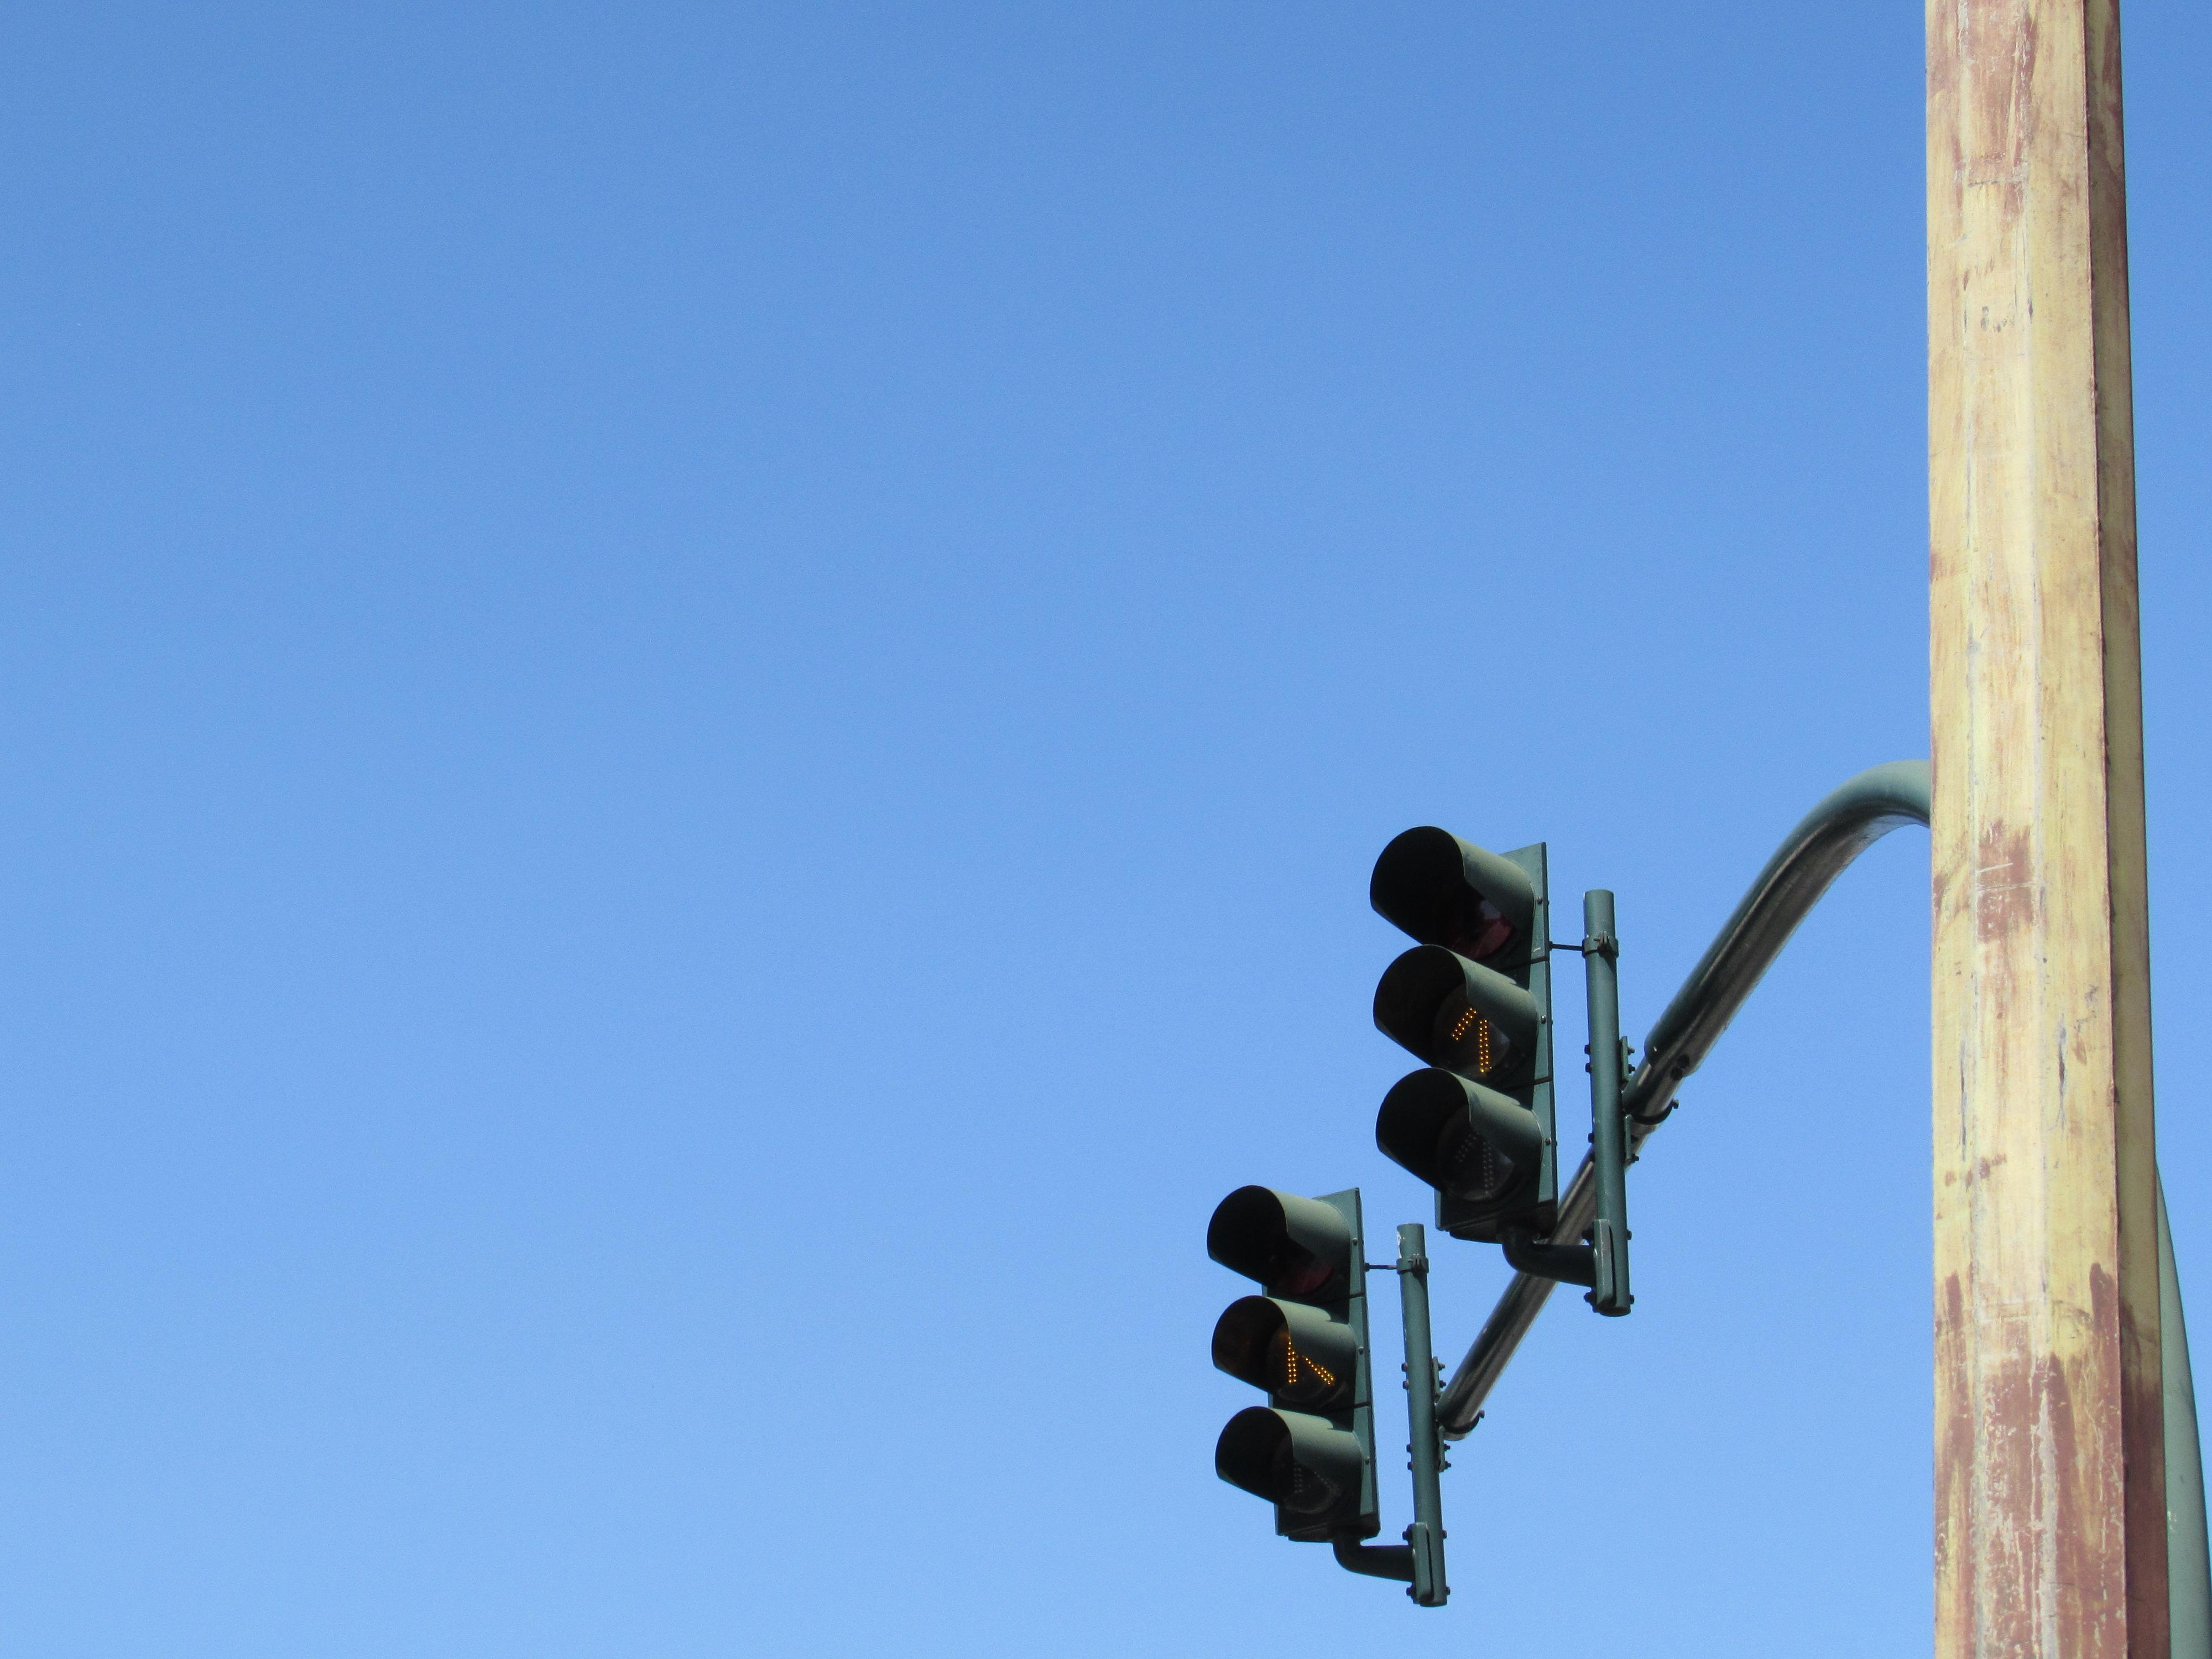yellow_light: (1371, 826, 1559, 1243), (1207, 1185, 1379, 1542)
